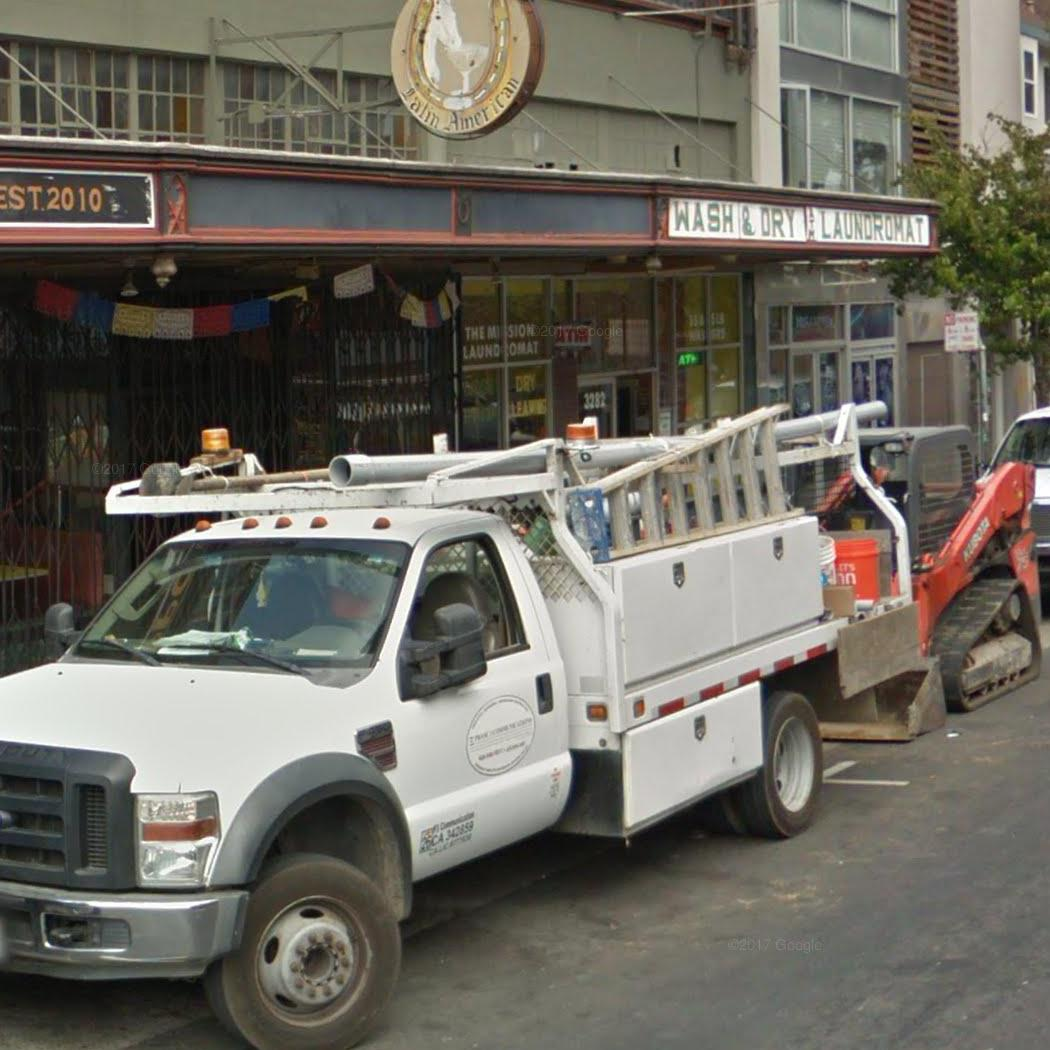No Parking: (940, 308, 982, 354)
